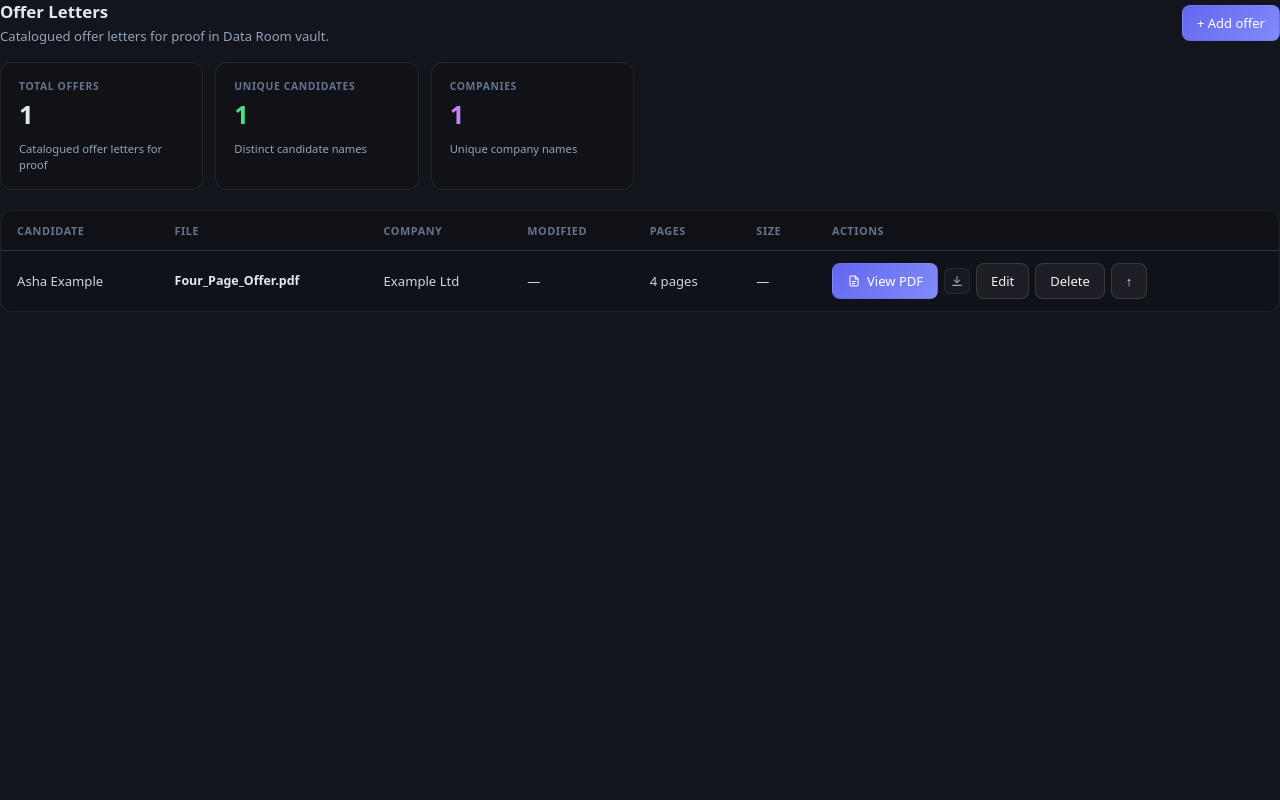
Test case: the page count › gives every page its place at once, so Next reaches a page that is still being drawn
Click the button with aria-label "View PDF for Asha Example": click(885, 280) [832,262,938,298]
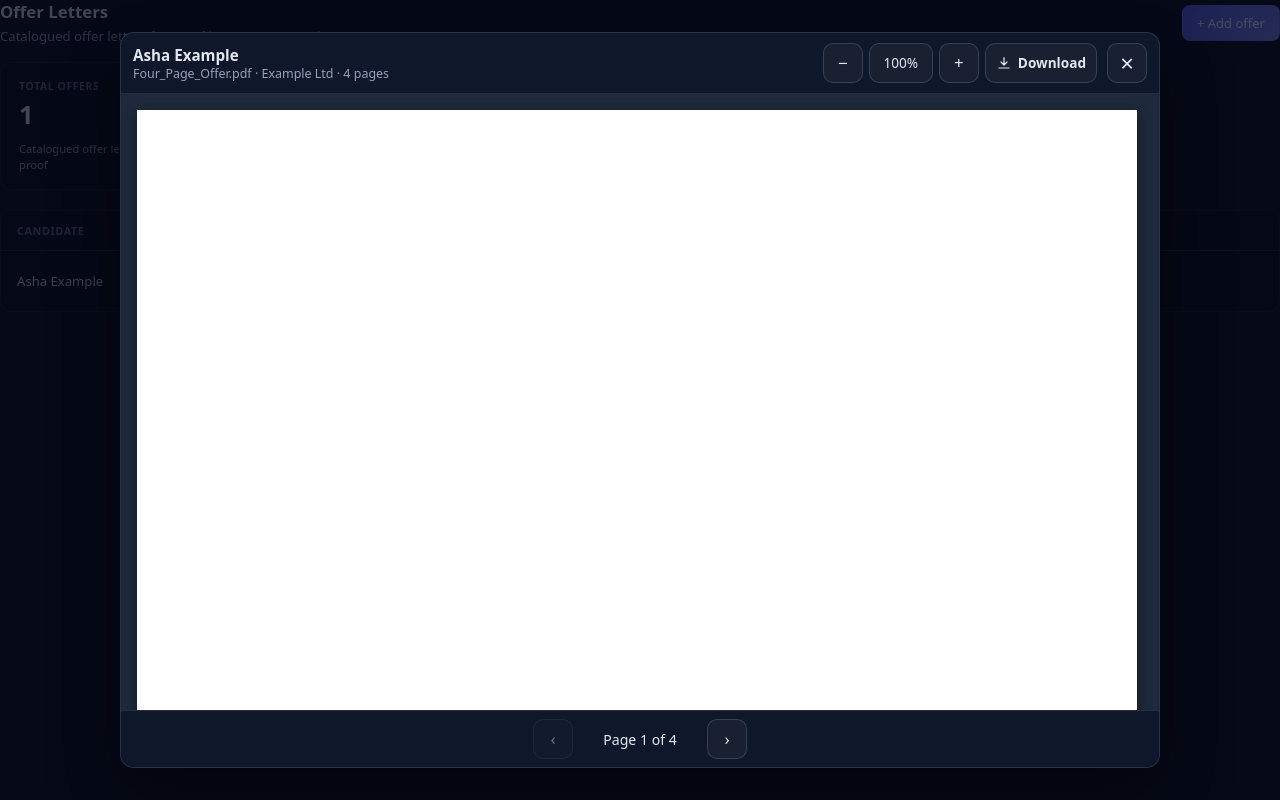
Click the button named "Next page": click(727, 739) [707,719,747,759]
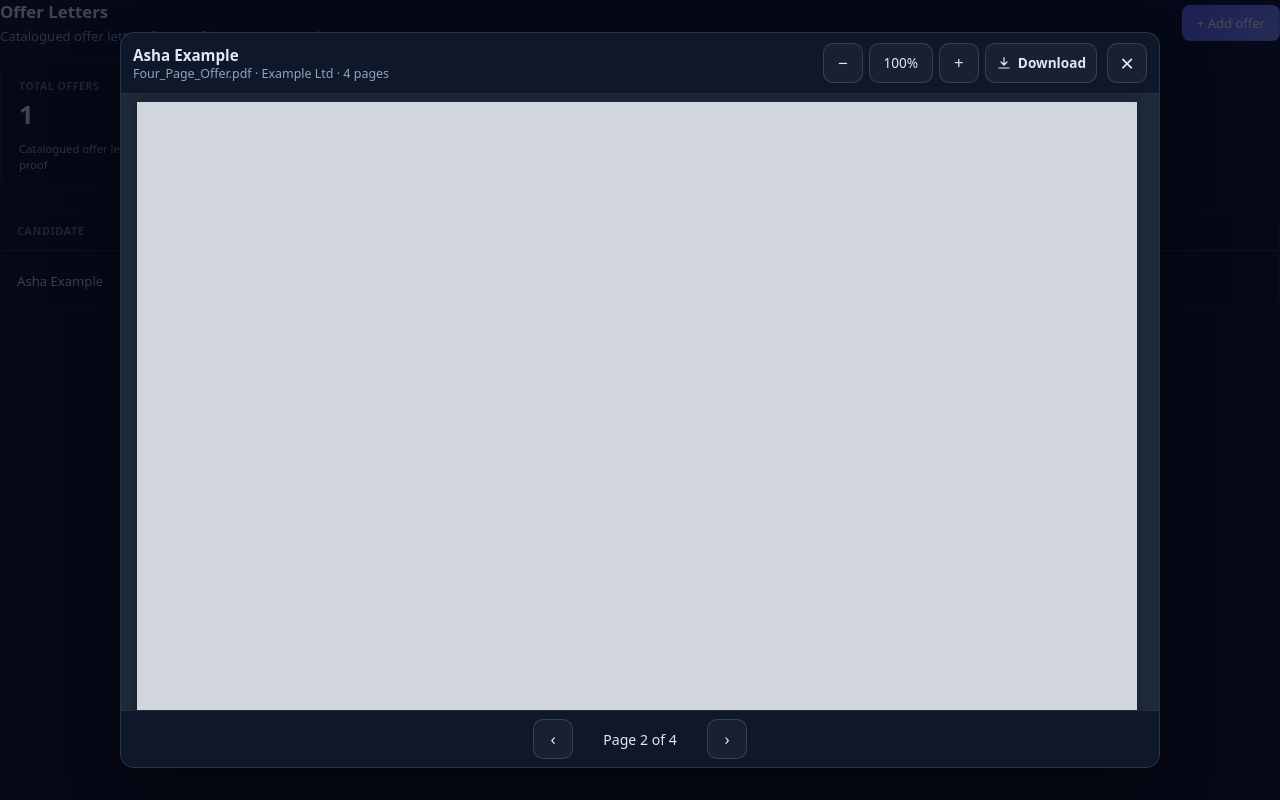
Click the button named "Next page": click(727, 739) [707,719,747,759]
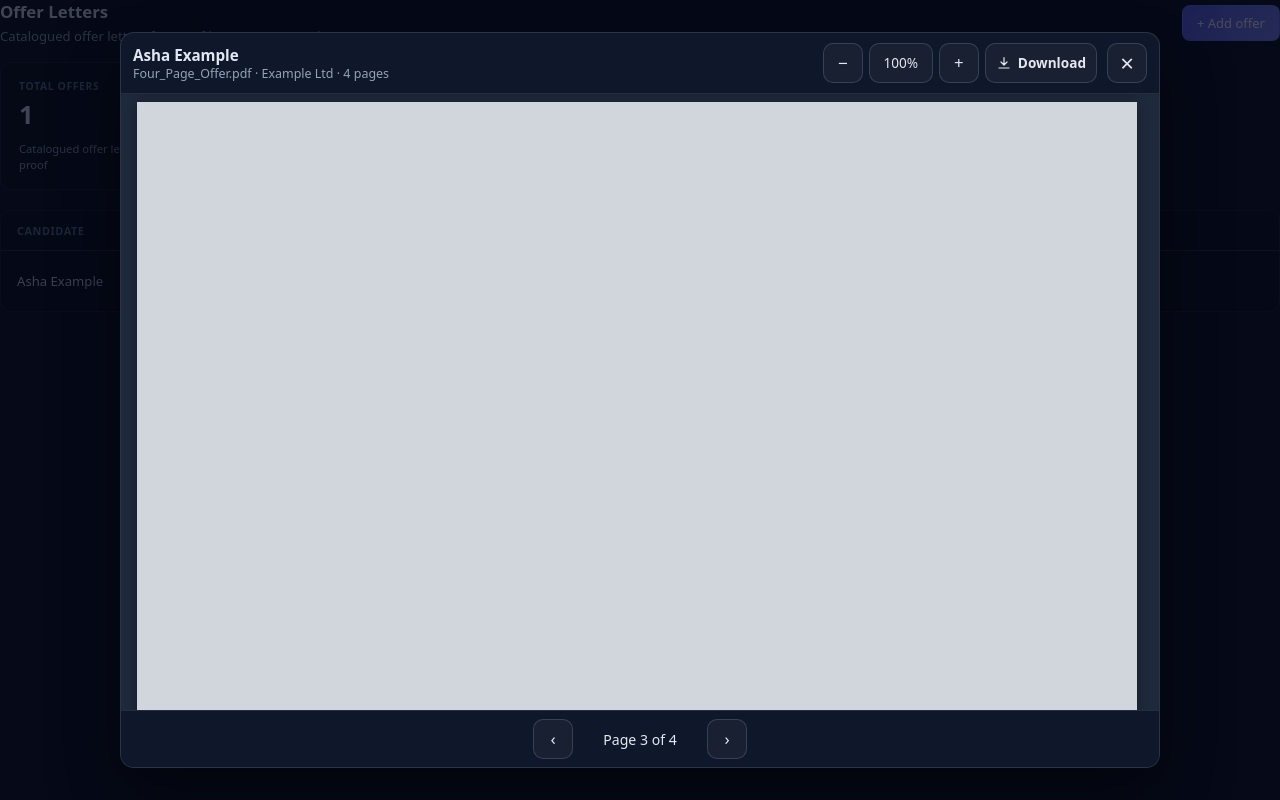
Result: the text with class "offer-preview__page-of" reads "Page 3 of 4" at [603,730,677,748]
